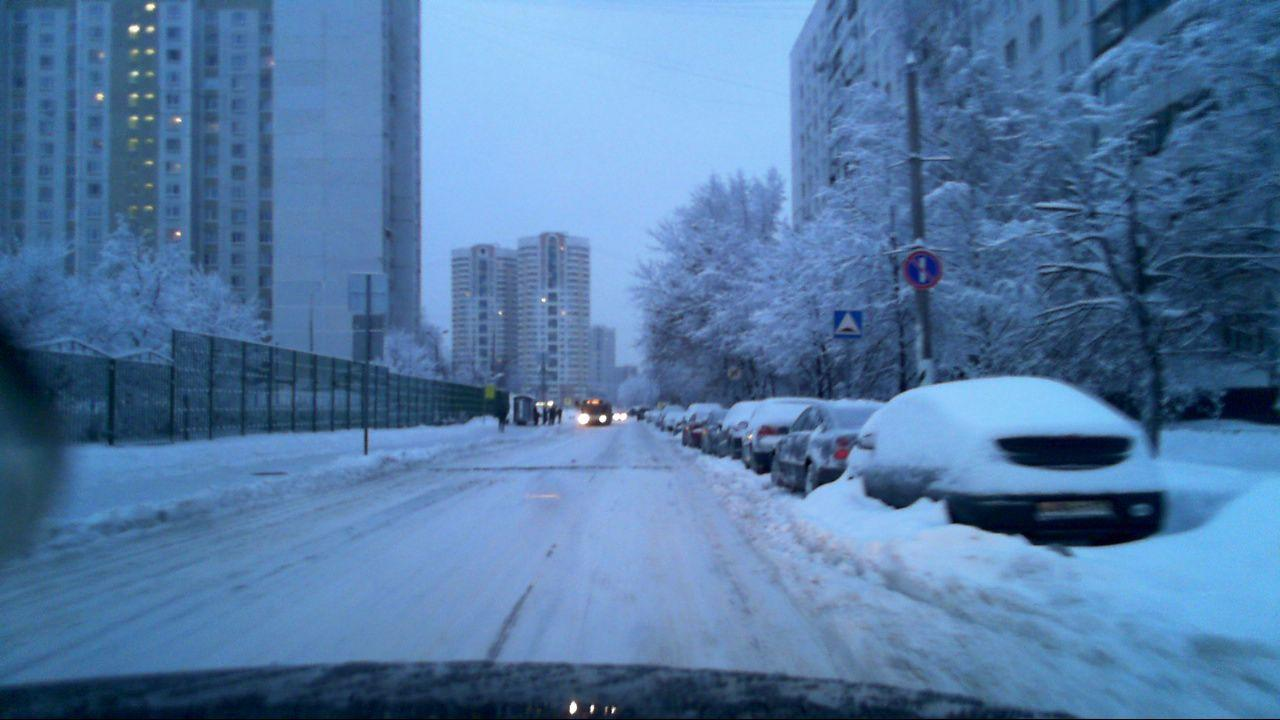3_29: (903, 247, 941, 288)
5_20: (831, 309, 866, 342)
